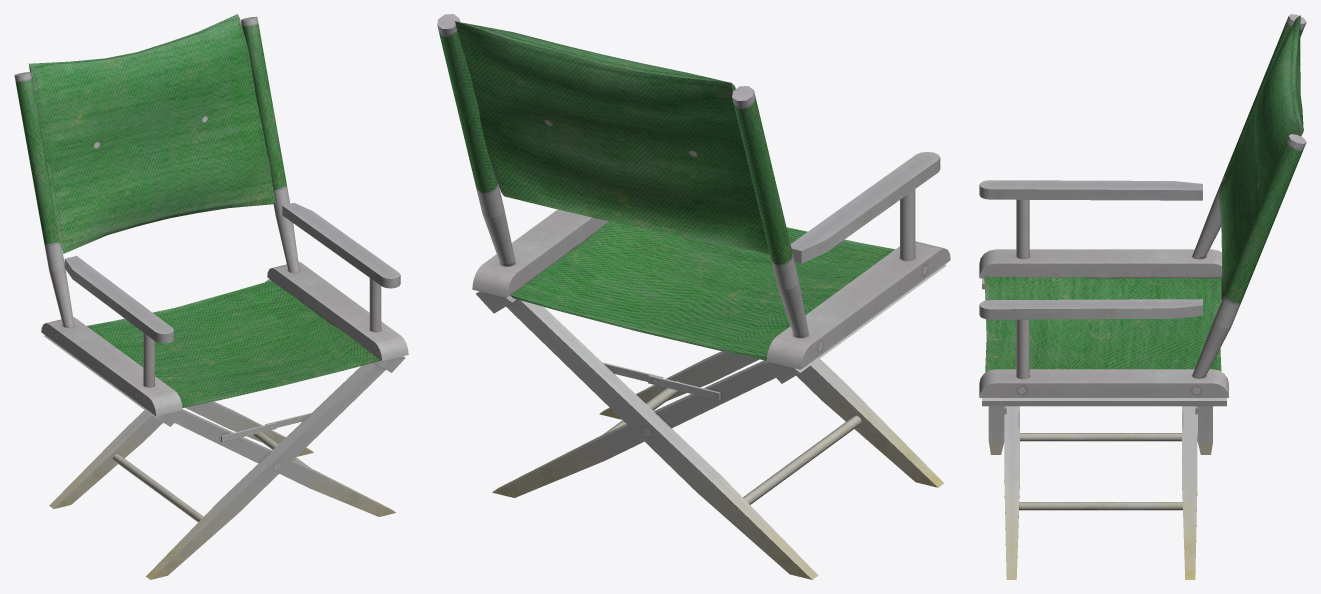
The model's file is Ht_dengzi_01.fbx.
3 renders of one model, left to right at view 1: azimuth 30°, elevation 25°; view 2: azimuth 150°, elevation 25°; view 3: azimuth 270°, elevation 25°, orthographic. The views are drawn at different scales.
Parts seen in each view (by area): view 1: Ht_dengzi_01; view 2: Ht_dengzi_01; view 3: Ht_dengzi_01.
Part boxes in pixels (x1,y1,x2,y2): Ht_dengzi_01: (14, 14, 408, 579); Ht_dengzi_01: (437, 14, 950, 579); Ht_dengzi_01: (979, 14, 1306, 579).
Size of the model in its own units: 71.89 by 74.08 by 110.
